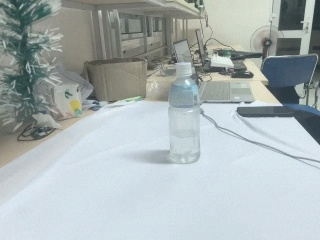bottle: (167, 61, 203, 165)
box: (84, 57, 149, 104)
mouse: (228, 66, 257, 79)
phone: (234, 100, 293, 121)
